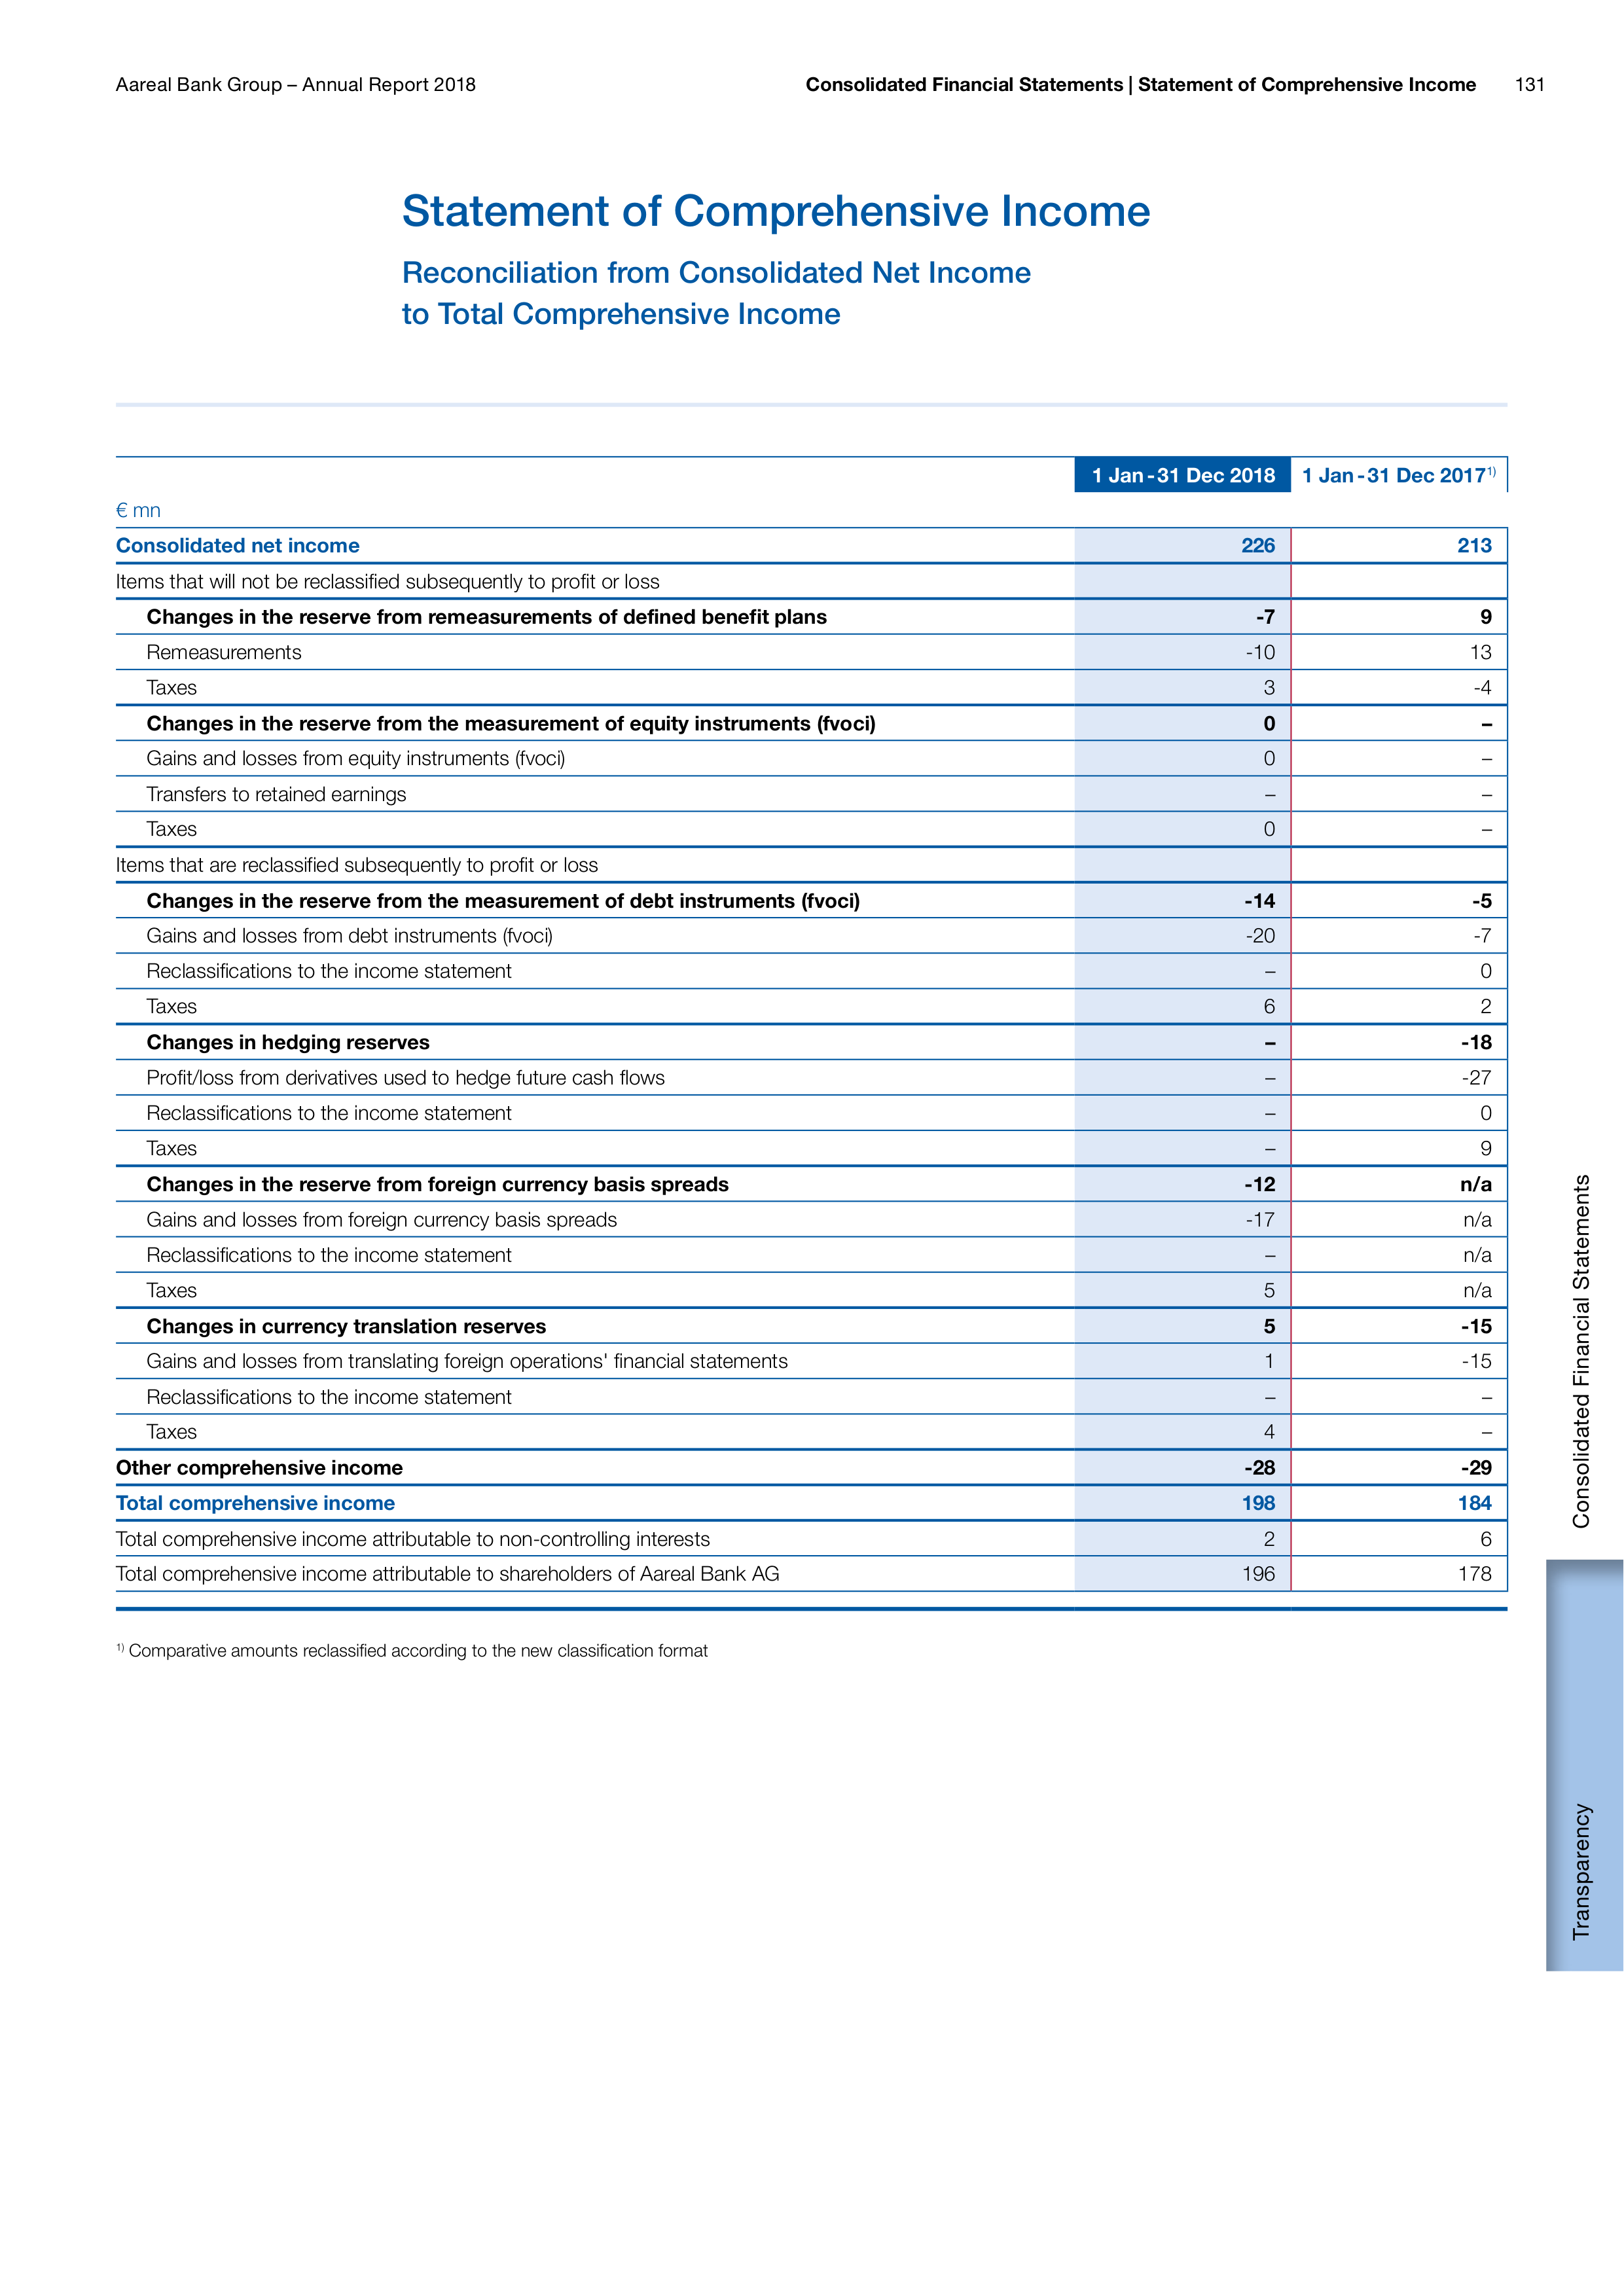comprehensive_income: (91, 397, 1527, 1623)
